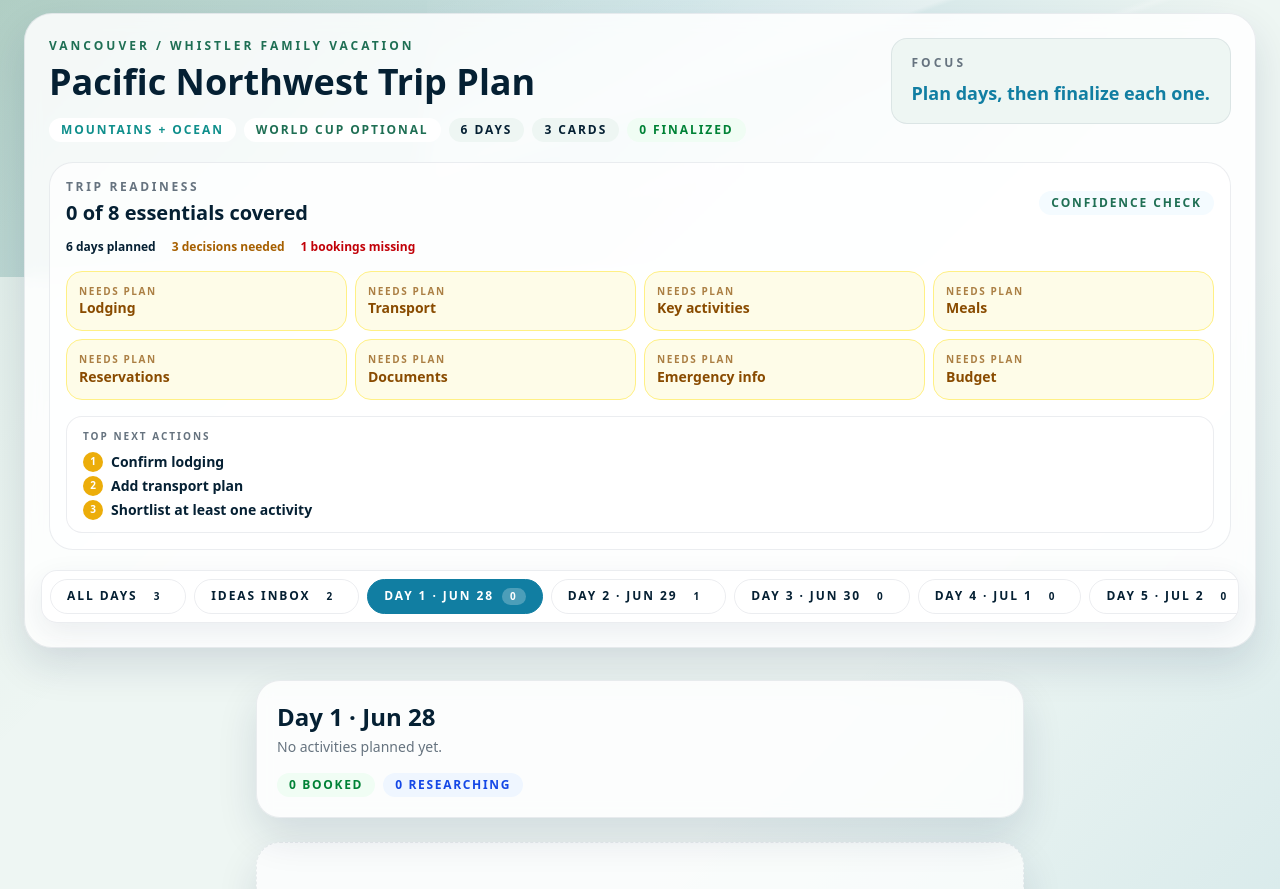
Test: KanbanBoard › shows a cost input on cards in the board view
The width and height of the screenshot is (1280, 889).
Click the button "All Days 3" at (118, 596), box [50,579,186,614]
(page scrolled)
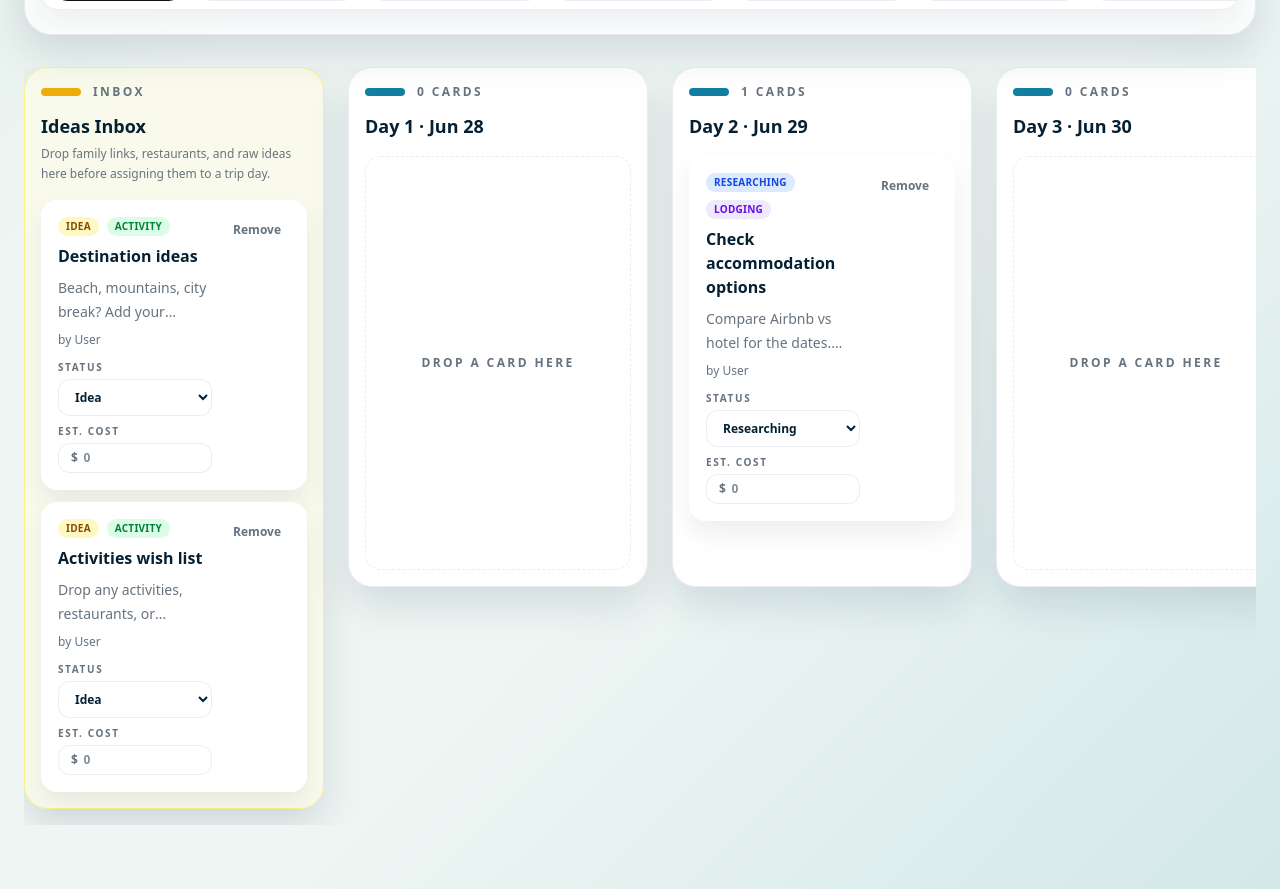
Result: the number field named "Estimated cost for Destination ideas" is shown at [84,450,199,466]
